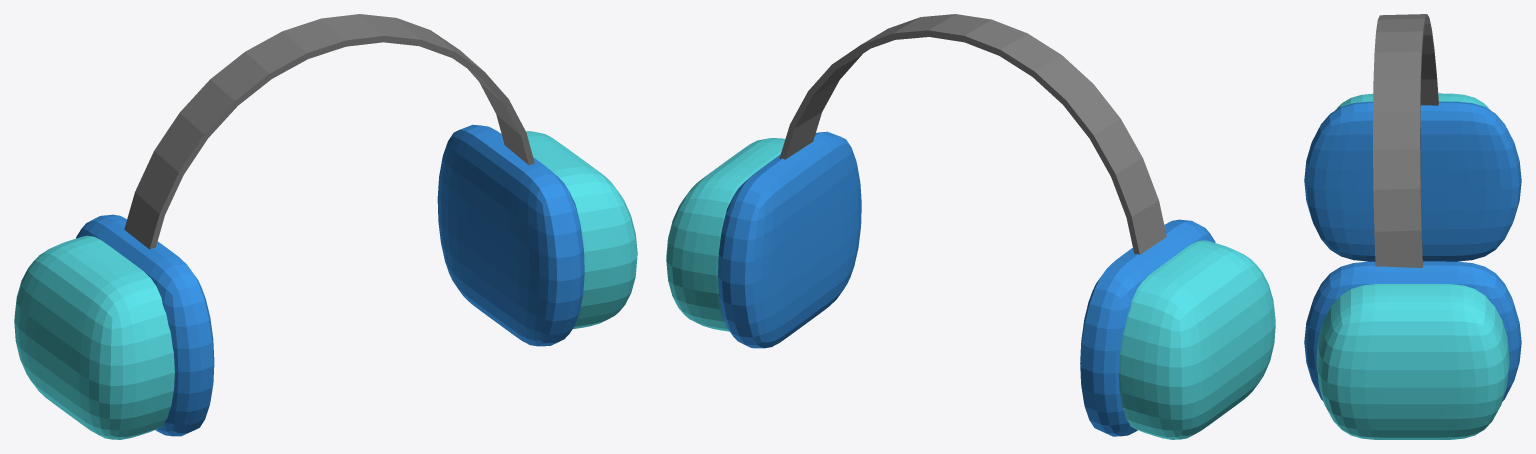
Rendered from headphones.glb.
The picture shows the model from 3 angles, left to right: view 1: azimuth 30°, elevation 25°; view 2: azimuth 150°, elevation 25°; view 3: azimuth 270°, elevation 25°; orthographic projection. The views are drawn at different scales.
Parts seen in each view (by area): view 1: Headphones; view 2: Headphones; view 3: Headphones.
Boxes of the visible parts, left/top/right/bottom form: Headphones: left=14, top=14, right=637, bottom=439; Headphones: left=666, top=14, right=1275, bottom=439; Headphones: left=1304, top=14, right=1521, bottom=439.
Size of the model in its own units: 1.36 by 0.8213 by 0.5245.
